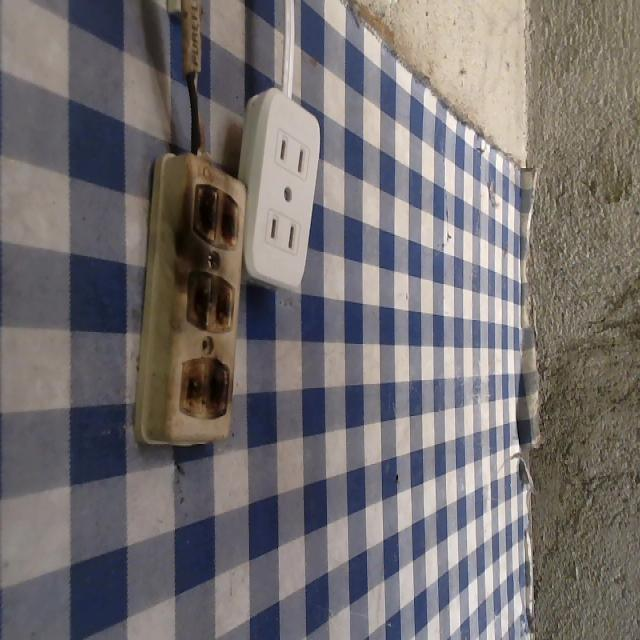-: (177, 353, 232, 423), (189, 177, 238, 251), (183, 268, 237, 332)
